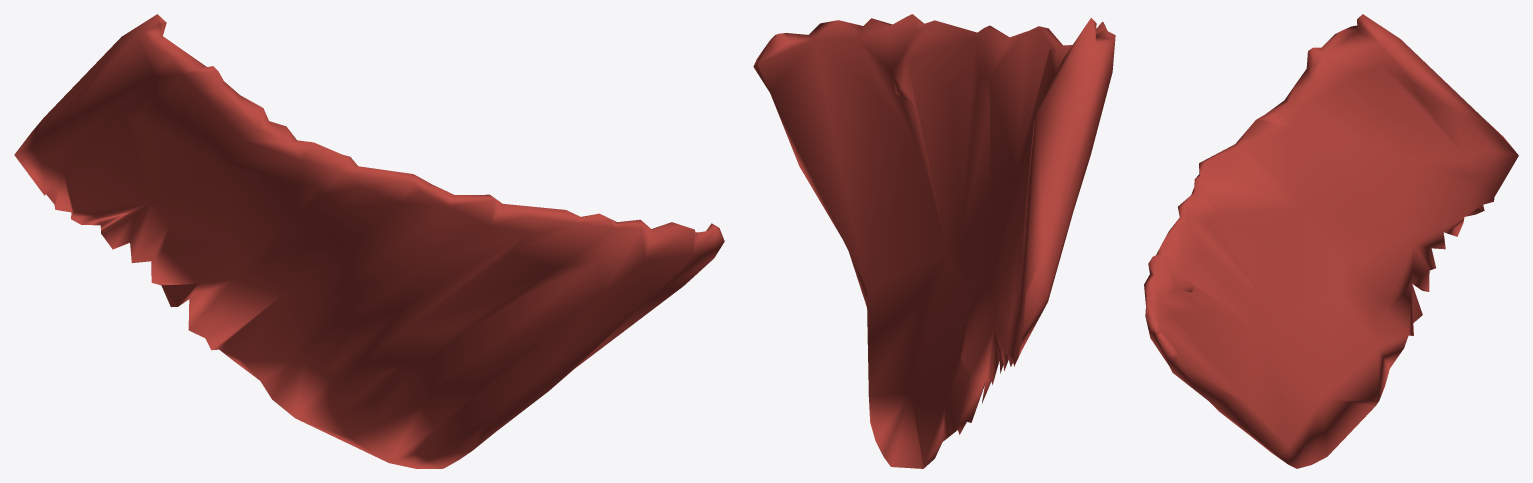
Rendered from musculos-depressor-labii-inferioris-r.glb.
3 renders of one model, left to right at view 1: azimuth 30°, elevation 25°; view 2: azimuth 150°, elevation 25°; view 3: azimuth 270°, elevation 25°, orthographic. The views are drawn at different scales.
Visible parts, largest first — view 1: Depressor labii inferioris.r; view 2: Depressor labii inferioris.r; view 3: Depressor labii inferioris.r.
Part boxes in pixels (x1=…): Depressor labii inferioris.r: x1=14, y1=14, x2=724, y2=468; Depressor labii inferioris.r: x1=753, y1=14, x2=1115, y2=468; Depressor labii inferioris.r: x1=1144, y1=14, x2=1518, y2=468.
Size of the model in its own units: 0.0306 by 0.0295 by 0.0273.
